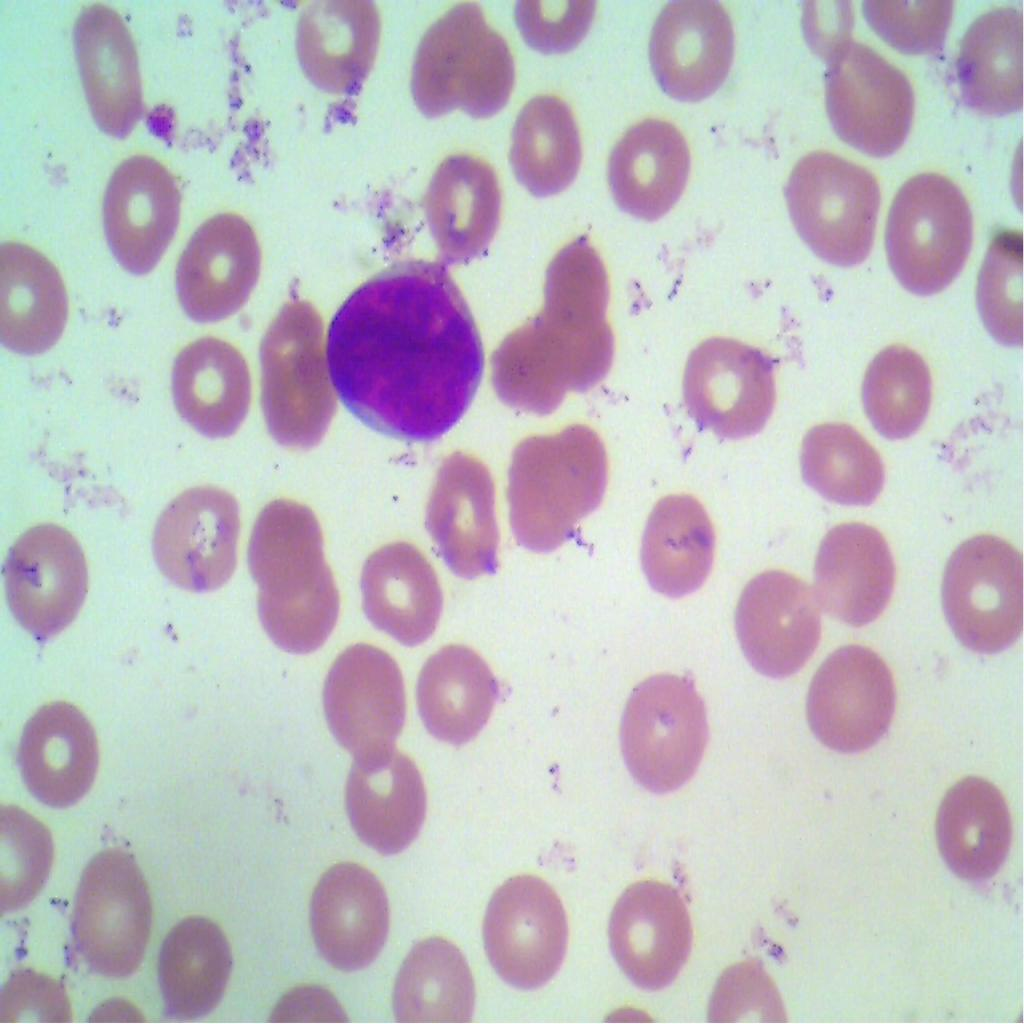Eritrosit: (878, 161, 979, 305), (778, 141, 879, 278), (473, 862, 576, 995), (0, 517, 99, 652), (56, 11, 158, 142), (611, 664, 711, 794), (8, 692, 106, 822), (63, 844, 156, 980), (801, 515, 909, 632), (670, 334, 778, 450), (812, 44, 918, 161), (148, 481, 242, 610), (420, 450, 506, 589), (802, 646, 908, 758), (628, 482, 724, 605), (92, 155, 186, 277), (728, 561, 822, 682), (322, 637, 408, 768), (786, 406, 886, 518), (928, 765, 1016, 892), (596, 874, 694, 988), (275, 0, 389, 98), (603, 112, 696, 231), (941, 524, 1023, 655), (159, 328, 253, 442), (644, 0, 738, 112), (851, 334, 943, 445), (502, 429, 579, 561), (419, 148, 508, 262), (413, 638, 499, 755), (178, 208, 262, 327), (306, 861, 388, 981), (344, 748, 433, 858), (146, 911, 236, 1019), (358, 538, 446, 648), (0, 232, 75, 360), (388, 922, 482, 1023), (256, 561, 344, 657), (530, 298, 618, 394), (508, 92, 582, 200), (446, 20, 522, 124), (246, 488, 322, 591), (955, 8, 1023, 118), (483, 319, 559, 417), (256, 364, 338, 450), (550, 415, 616, 518), (534, 225, 608, 314), (411, 7, 473, 112), (258, 292, 322, 381)
Limfoblast: (324, 255, 486, 448)
